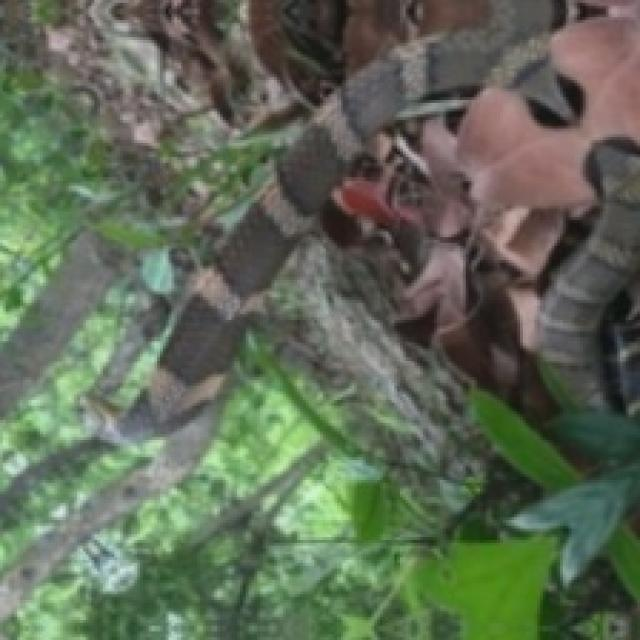king cobra: (83, 0, 637, 440)
